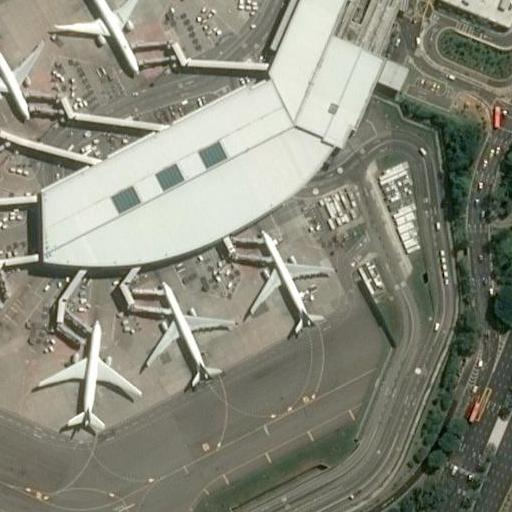Aircraft: (38, 311, 132, 430), (146, 281, 231, 390), (251, 233, 321, 326), (52, 0, 148, 62), (0, 24, 38, 117)
